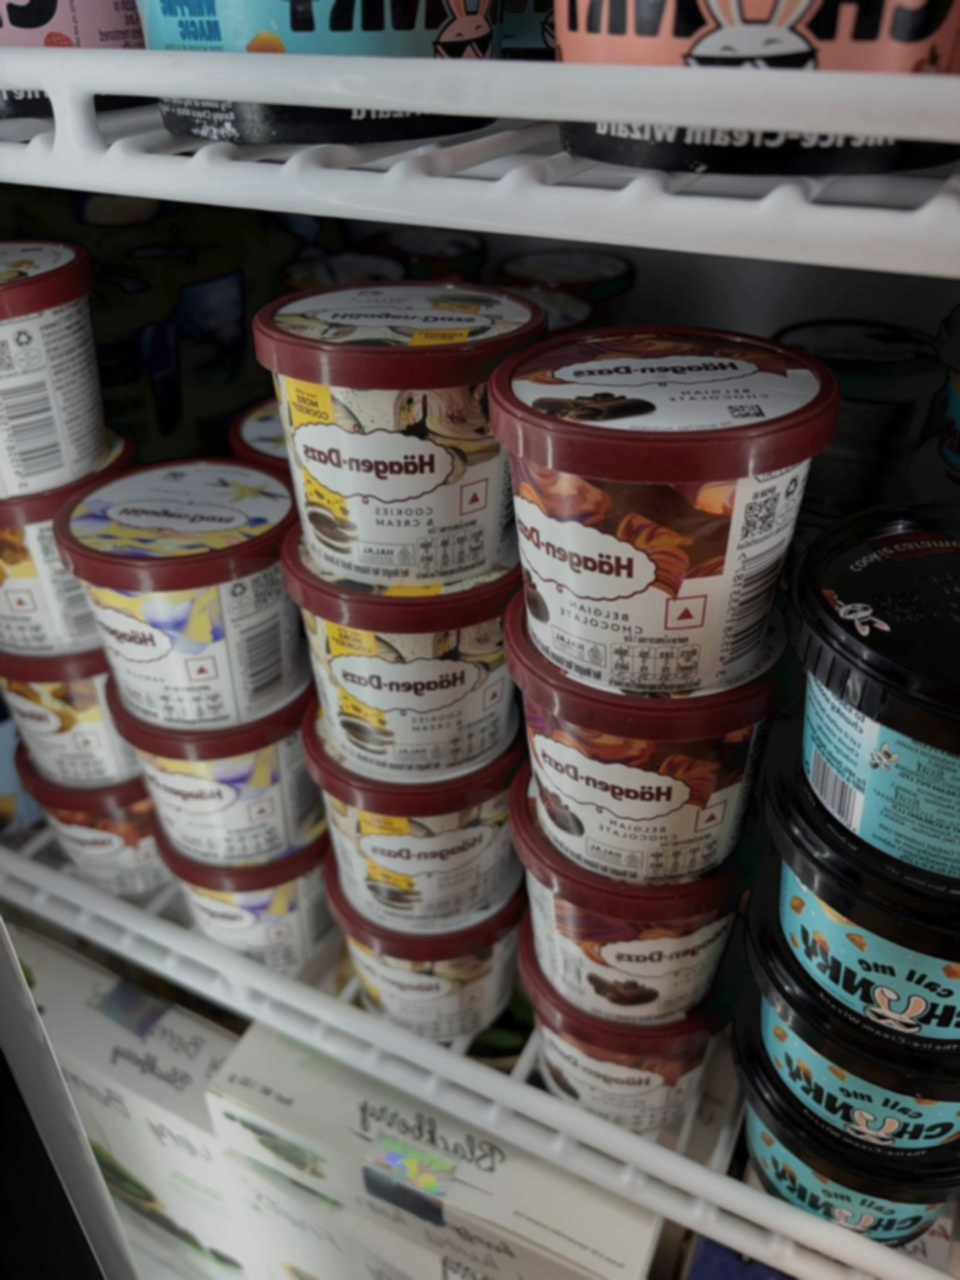Haagen-Dazs IceCream Tub: (506, 324, 845, 690), (251, 275, 536, 591), (512, 638, 774, 891), (66, 459, 311, 720), (276, 541, 529, 782), (523, 804, 736, 1043), (105, 666, 334, 866), (320, 716, 522, 931), (0, 234, 115, 510), (3, 430, 127, 664)
